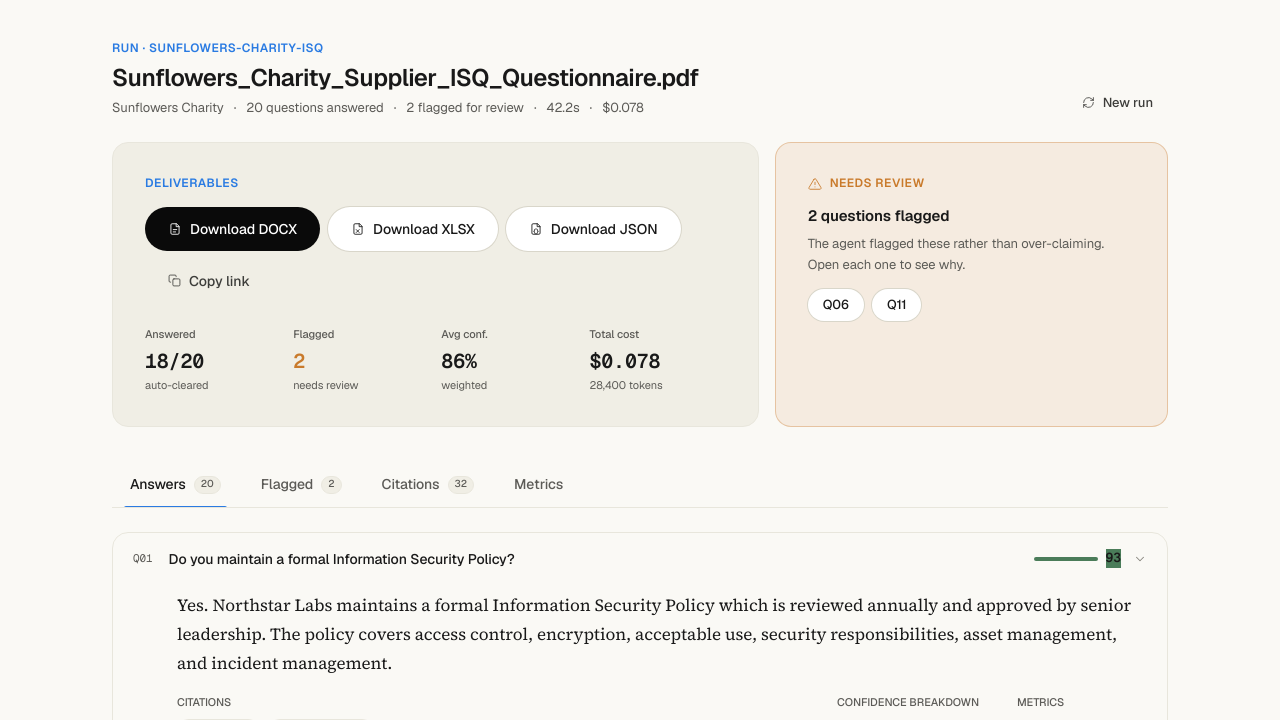
Test: ResultsPage — download stubs surface a toast › shows a polite toast when a download is clicked
Expected: the text "Run · sunflowers-charity-isq" is shown, [112, 40, 324, 56]
Click the button "Download DOCX". click: x=232, y=229
box: [145, 207, 320, 251]
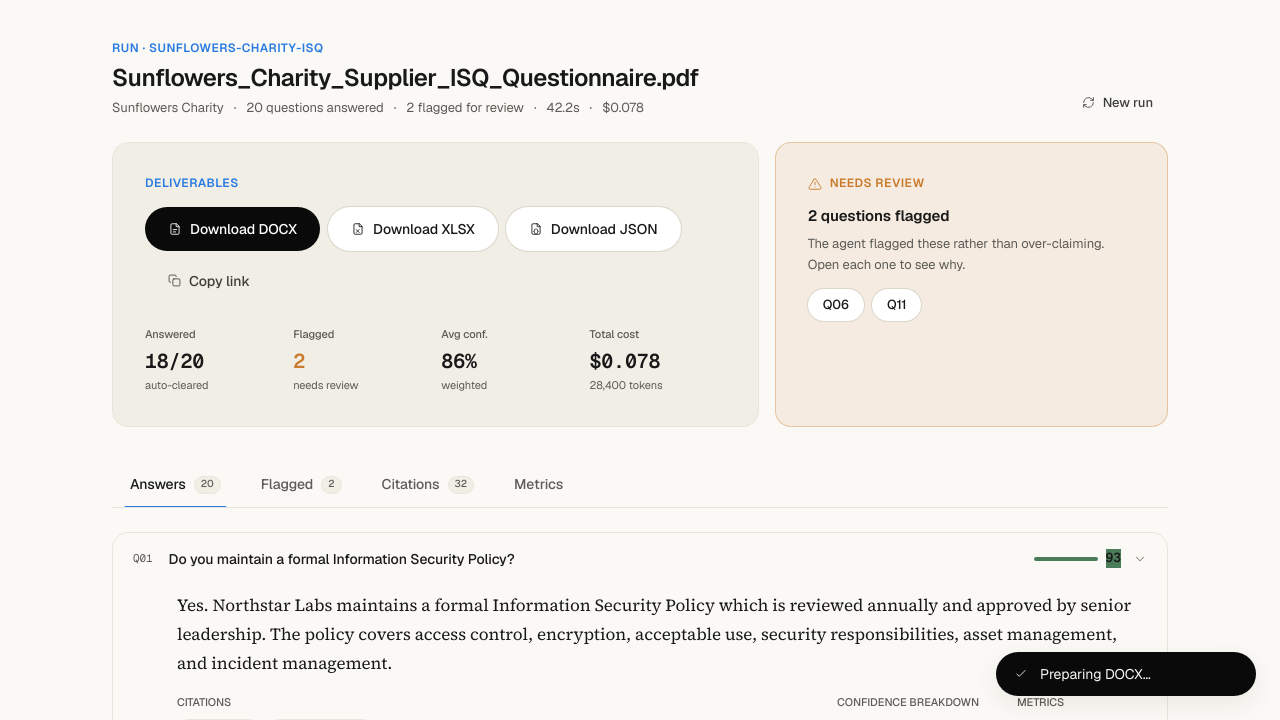
Expected: the message shows "Preparing DOCX", [1040, 665, 1151, 683]
